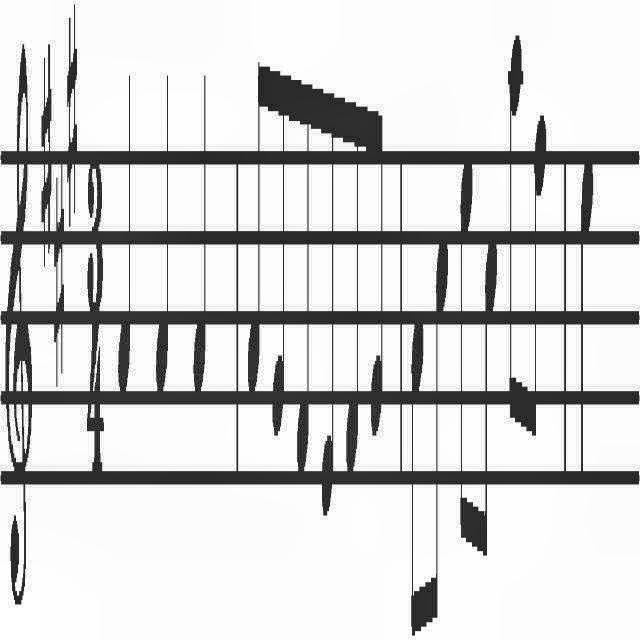Bass-clef: (0, 0, 34, 636)
Diez: (50, 138, 66, 394), (66, 14, 80, 224), (42, 36, 52, 276)
Eighth-note: (293, 54, 315, 512), (506, 0, 526, 486), (454, 95, 474, 569), (243, 29, 265, 437), (342, 77, 362, 503), (365, 76, 387, 457), (268, 51, 288, 452), (480, 199, 500, 596), (434, 194, 451, 638), (529, 92, 547, 484), (320, 84, 336, 516), (408, 298, 420, 640)
Quarter-note: (574, 124, 596, 536), (190, 40, 210, 412), (152, 55, 172, 421), (116, 69, 132, 419)
